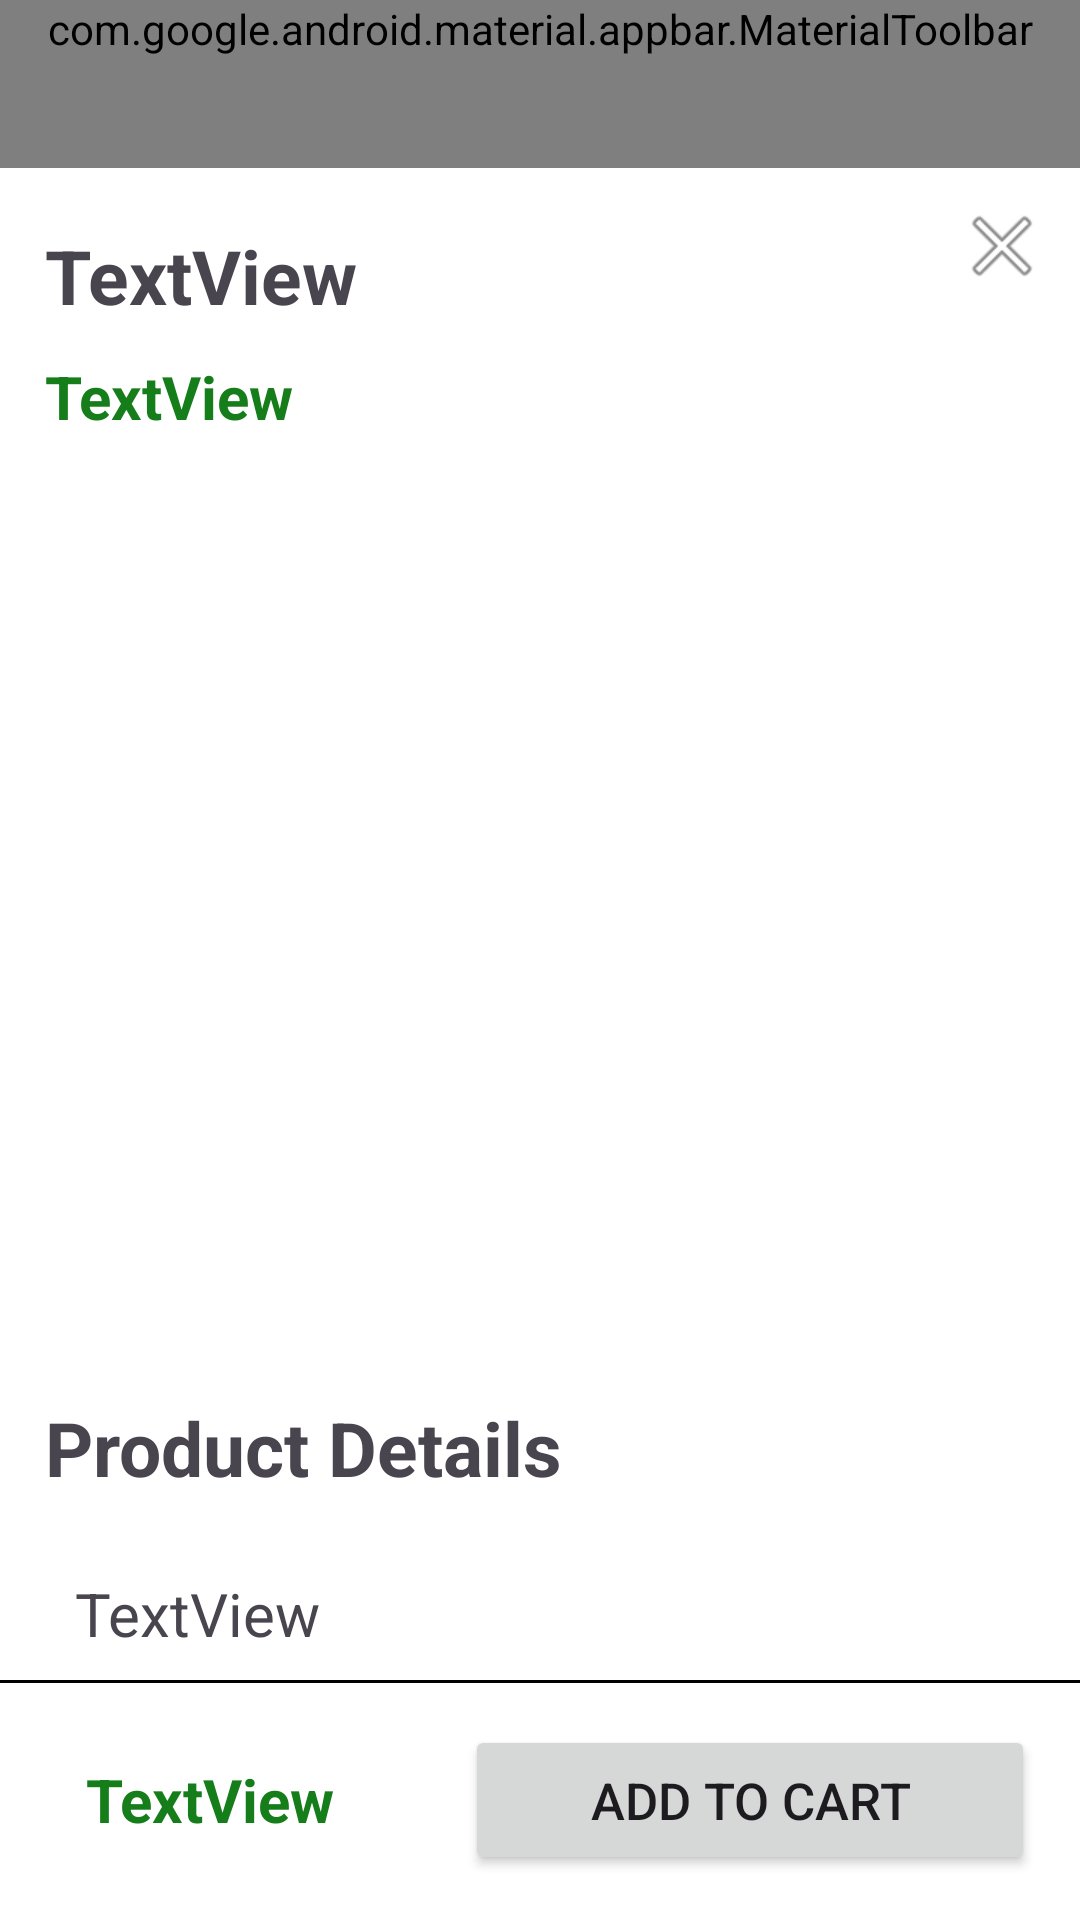

Where icons sit on this 1080x1920 app screen, as [x1=x1, y1=y1, x2=x2, y2=y2]:
close clear cancel: [x1=972, y1=216, x2=1032, y2=276]
